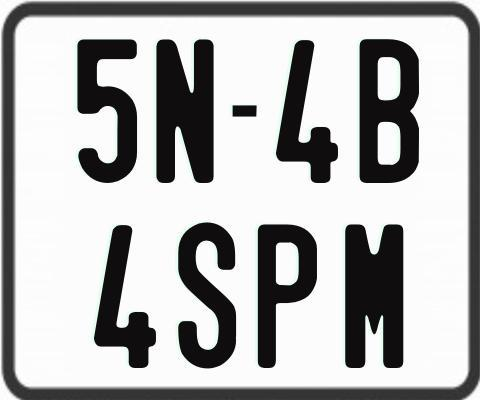4: (93, 225, 157, 373), (275, 37, 339, 180)
5: (74, 36, 135, 184)
B: (360, 36, 419, 181)
M: (344, 222, 402, 370)
N: (155, 38, 218, 185)
P: (258, 222, 319, 367)
S: (177, 222, 239, 371)
